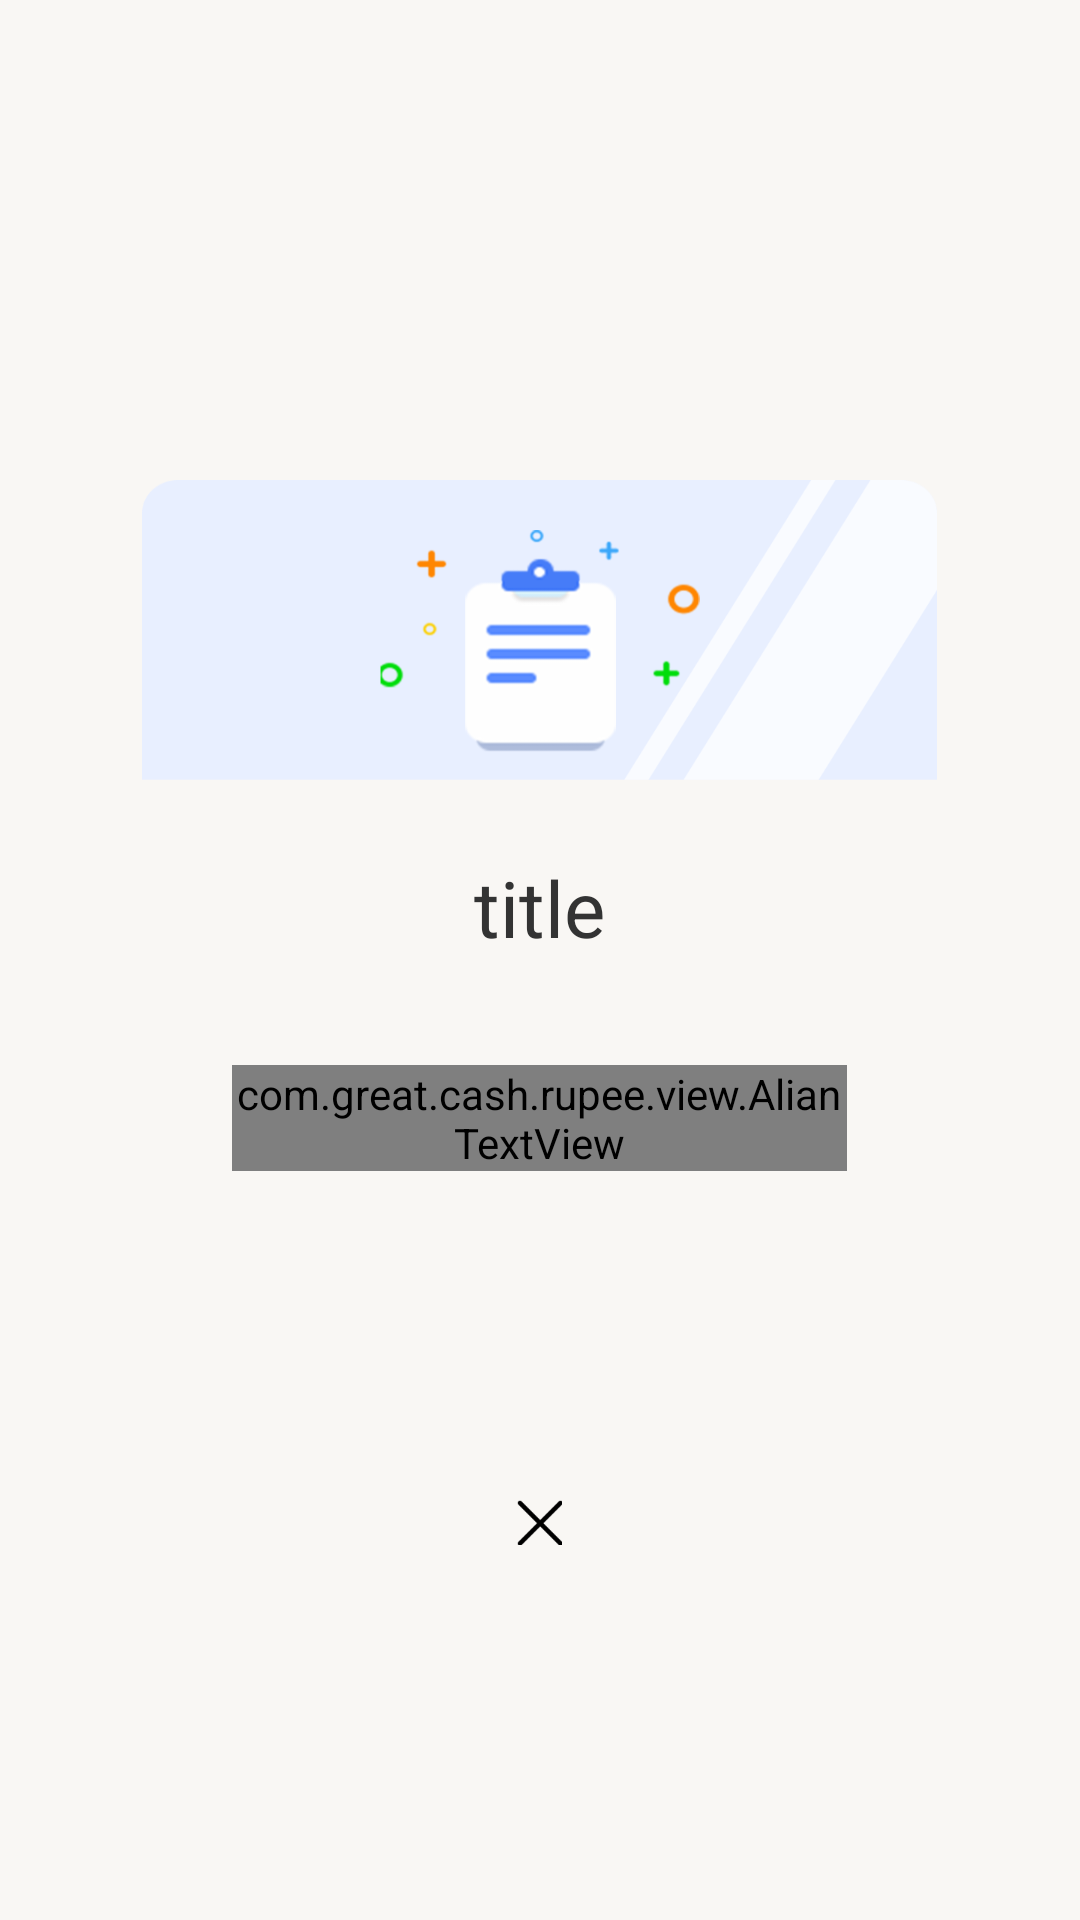

Locate icon controls on the screen. Image size 1080 x 1920, boxes as (x1, y1, x2, y2).
guanbi: (517, 1500, 562, 1545)
